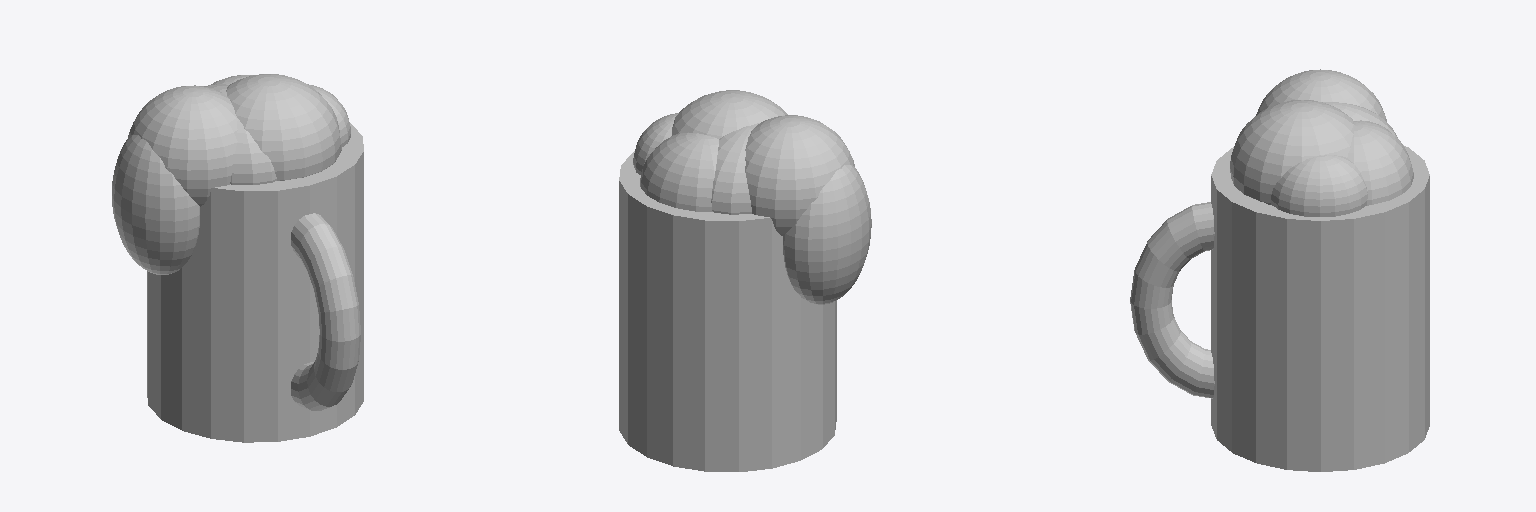
The model's file is Beer.obj.
3 views of the same model, side by side, from view 1: azimuth 30°, elevation 25°; view 2: azimuth 150°, elevation 25°; view 3: azimuth 270°, elevation 25° (orthographic).
Parts seen in each view (by area): view 1: pPipe1, pTorus1, pSphere5, pSphere6, pSphere3, pSphere4, pSphere1; view 2: pPipe1, pSphere5, pSphere6, pSphere2, pSphere3, pSphere4, pSphere1; view 3: pPipe1, pTorus1, pSphere3, pSphere1, pSphere2, pSphere6, pSphere4.
Boxes of the visible parts, x1,y1,x2,y2 form: pPipe1: [147, 123, 363, 441]; pTorus1: [291, 213, 360, 410]; pSphere5: [112, 135, 199, 274]; pSphere6: [128, 85, 237, 206]; pSphere3: [226, 74, 340, 180]; pSphere4: [204, 84, 276, 184]; pSphere1: [308, 84, 350, 152]; pPipe1: [619, 151, 836, 471]; pSphere5: [783, 165, 871, 304]; pSphere6: [745, 115, 854, 236]; pSphere2: [640, 132, 718, 211]; pSphere3: [672, 90, 787, 138]; pSphere4: [711, 123, 759, 214]; pSphere1: [633, 113, 678, 174]; pPipe1: [1211, 145, 1429, 471]; pTorus1: [1130, 202, 1214, 398]; pSphere3: [1230, 100, 1354, 204]; pSphere1: [1271, 155, 1367, 216]; pSphere2: [1347, 120, 1413, 205]; pSphere6: [1256, 69, 1386, 121]; pSphere4: [1323, 102, 1397, 137].
Size of the model in its own units: 2.42 by 3.25 by 2.74.